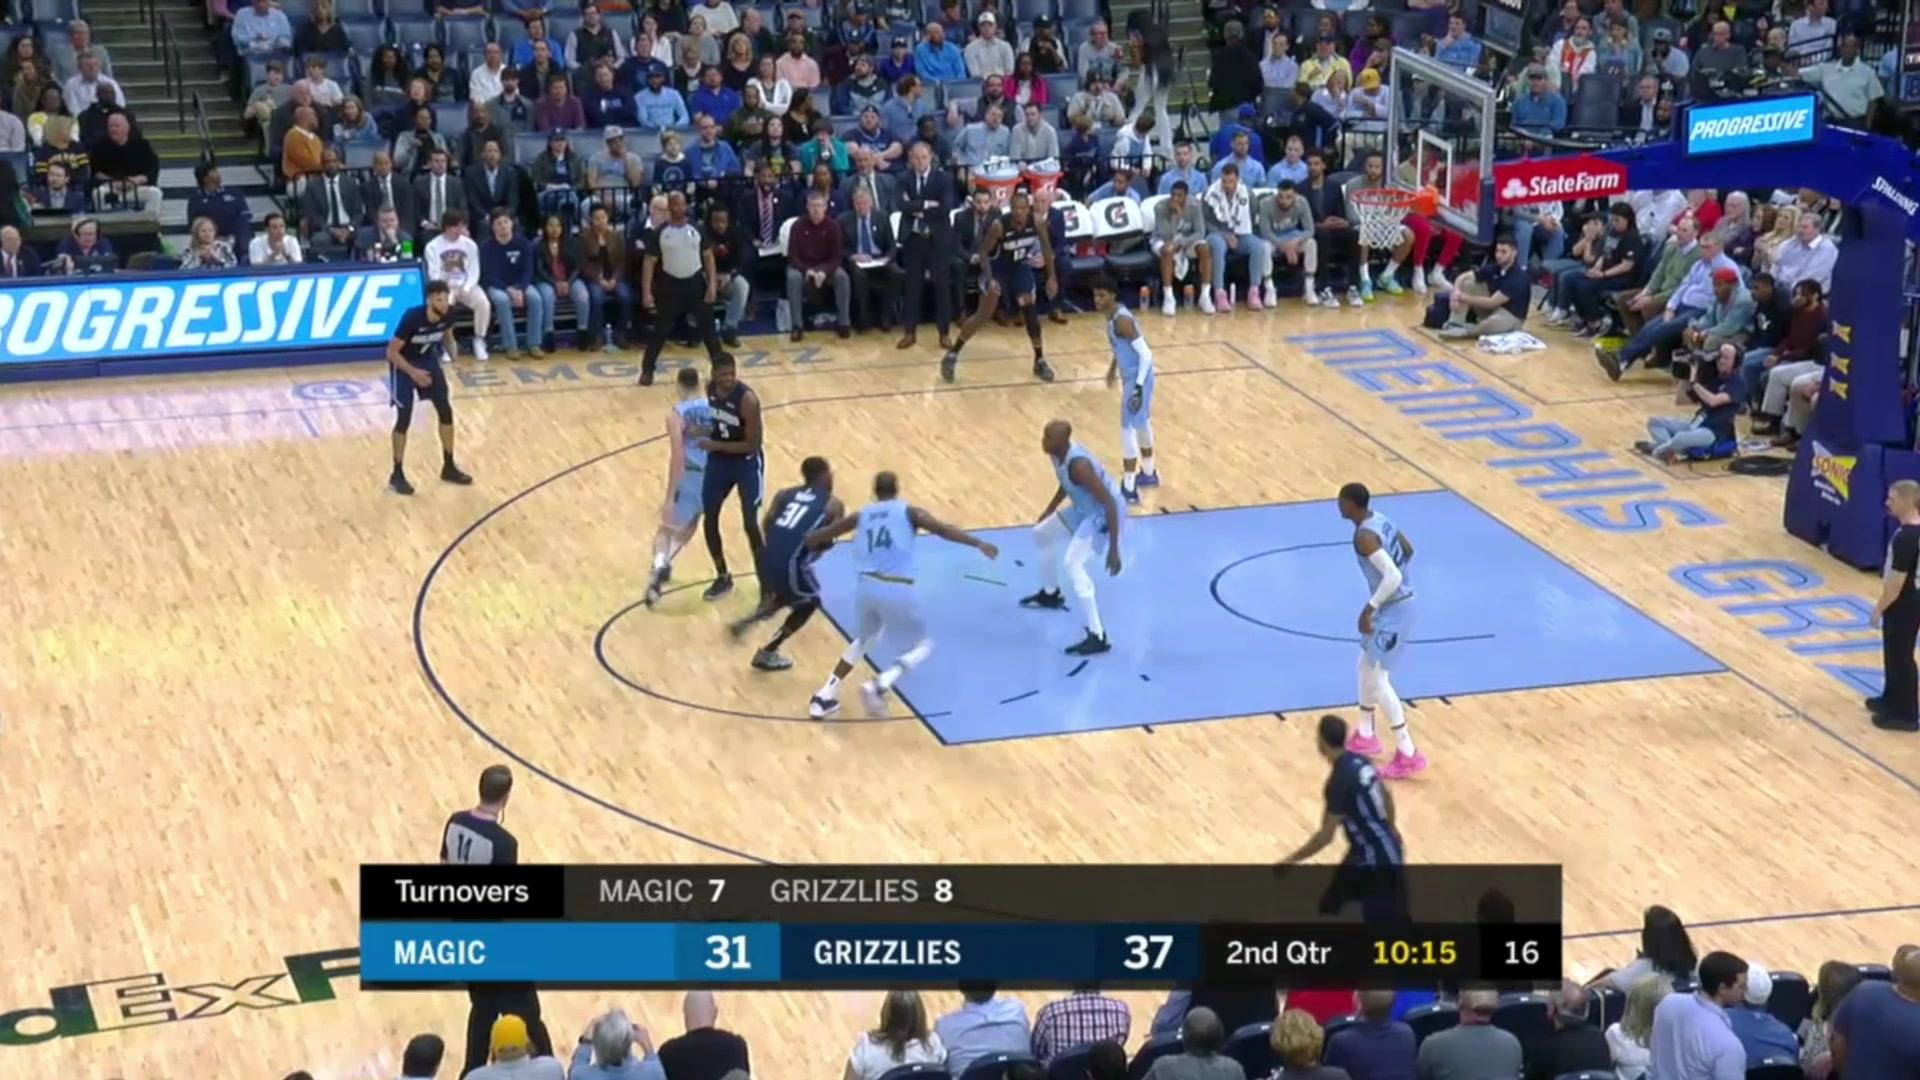no_foul: (653, 357, 752, 615)
